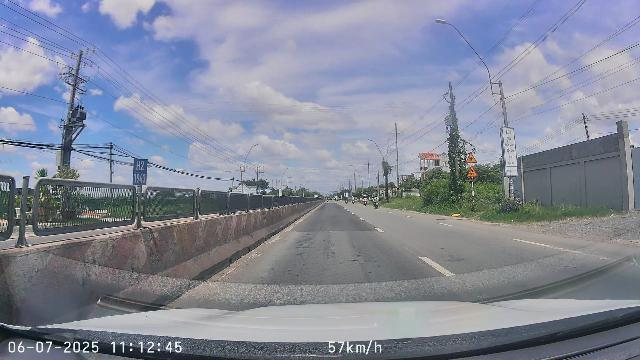207-giao-nhau-voi-duong-khong-uu-tien: (466, 152, 477, 163)
224-duong-nguoi-di-bo-cat-ngang: (467, 166, 478, 177)
